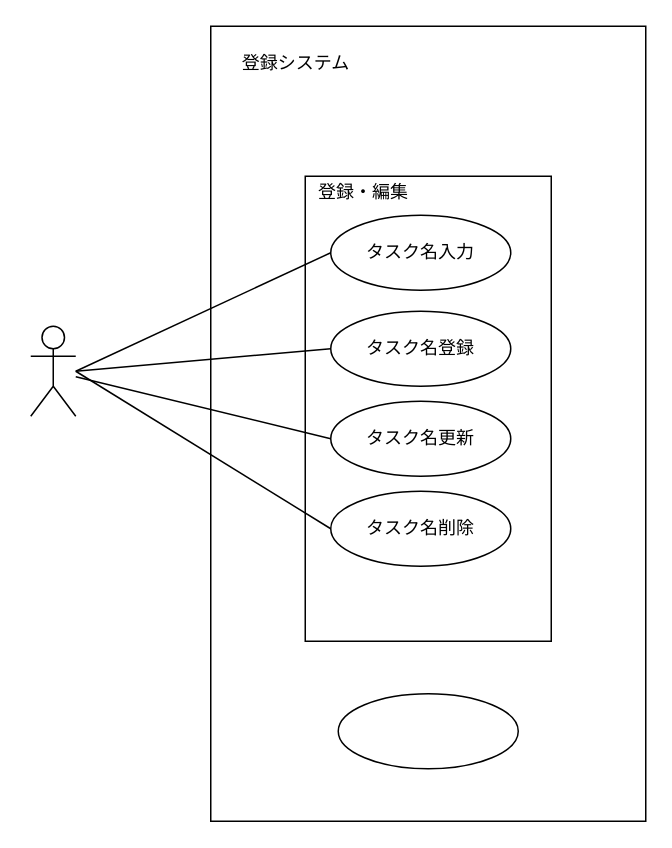
Some shapes in this 672 by 848 pixel diagram are drawn without their labels. The box of each missing label's shape, as (x1, y1, x2, y2) in pixels:
タイムスタンプ／ 作成日発行: (337, 692, 518, 769)
登録者: (29, 325, 76, 416)
